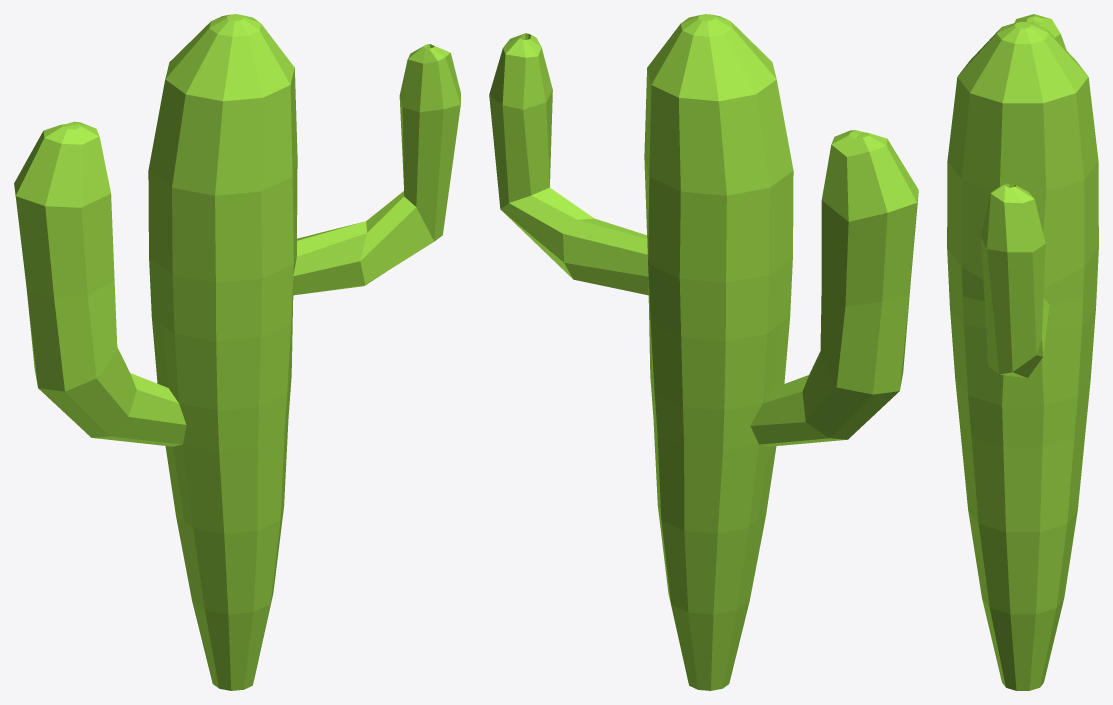
The model's file is boringcactus.fbx.
The picture shows the model from 3 angles, left to right: view 1: azimuth 30°, elevation 25°; view 2: azimuth 150°, elevation 25°; view 3: azimuth 270°, elevation 25°; orthographic projection.
Parts seen in each view (by area): view 1: Cylinder.004; view 2: Cylinder.004; view 3: Cylinder.004.
Boxes of the visible parts, <box> form: Cylinder.004: <box>14,14,460,690</box>; Cylinder.004: <box>489,14,918,690</box>; Cylinder.004: <box>947,14,1098,690</box>.
Bounding box in the file's own units: 446 × 654 × 137.
